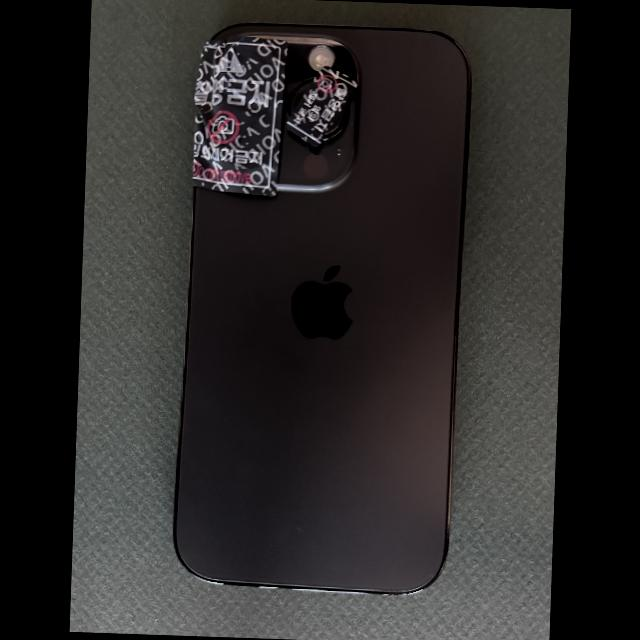lens: (324, 103, 349, 140)
phone: (172, 20, 473, 596)
sticker: (192, 35, 288, 196), (285, 65, 358, 148)
